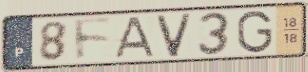3: (195, 11, 233, 57)
8: (37, 19, 69, 63)
A: (110, 15, 158, 60)
F: (72, 17, 115, 64)
G: (235, 9, 274, 55)
V: (154, 12, 194, 60)
